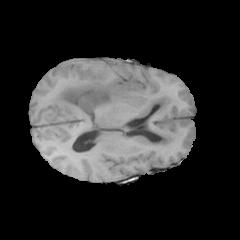glioma: (51, 75, 179, 149)
